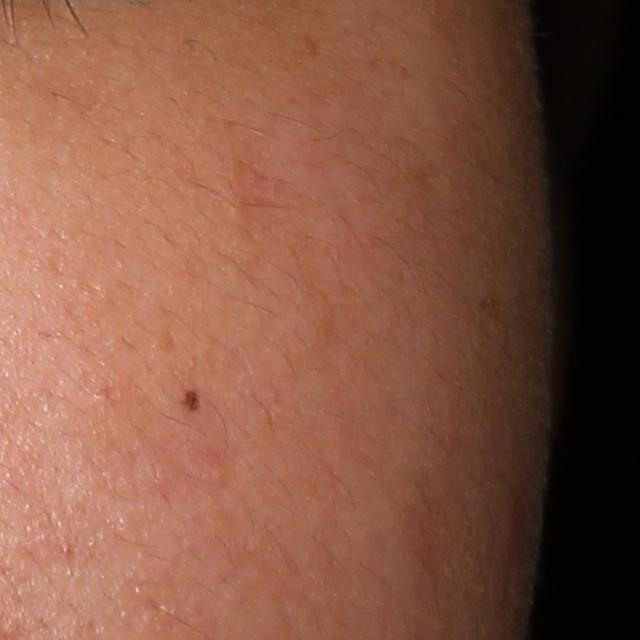melasma: (304, 30, 326, 59)
nevus: (179, 387, 201, 415)
